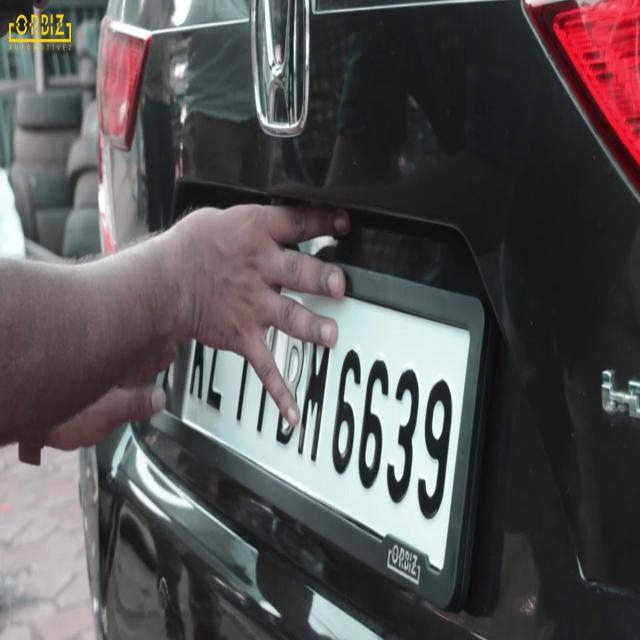plate: (191, 237, 457, 546)
